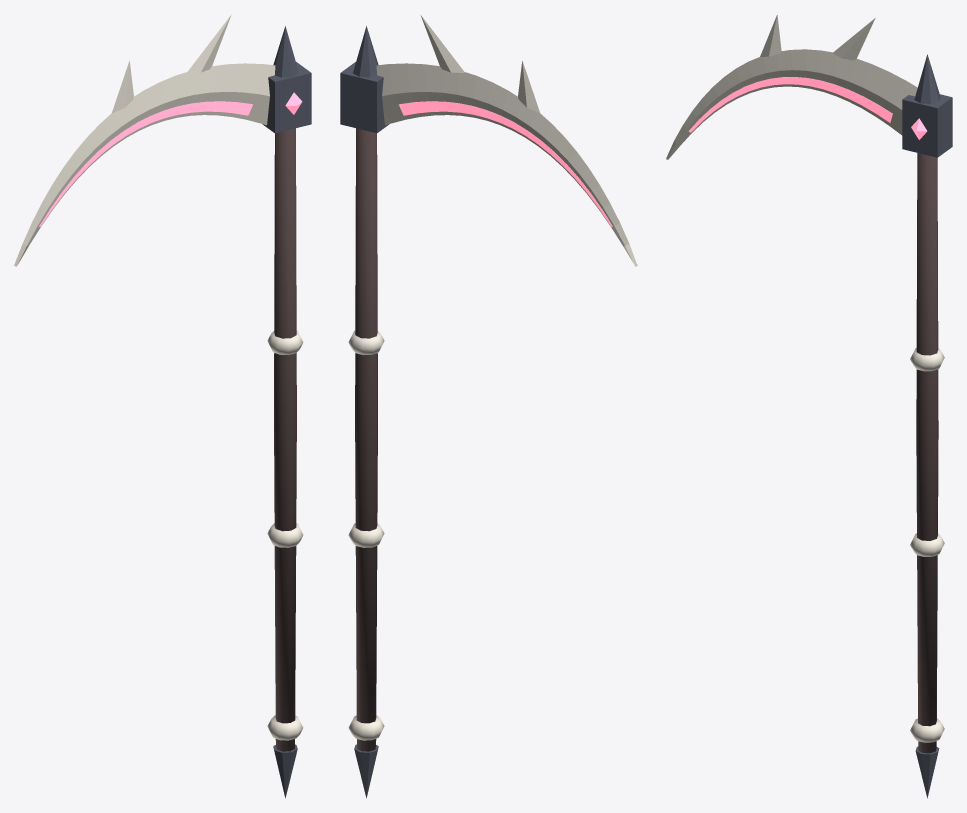
File: Grave_Crescent_Scythe.fbx
3 renders of one model, left to right at view 1: azimuth 30°, elevation 25°; view 2: azimuth 150°, elevation 25°; view 3: azimuth 330°, elevation 25°, orthographic. The views are drawn at different scales.
Parts seen in each view (by area): view 1: Grave_Crescent_Scythe_Staff, Grave_Crescent_Scythe_Blade, Grave_Crescent_Scythe_Socket, Grave_Crescent_Scythe_Rings, Grave_Crescent_Scythe_Glow, Grave_Crescent_Scythe_Thorns, Grave_Crescent_Scythe_Spike; view 2: Grave_Crescent_Scythe_Staff, Grave_Crescent_Scythe_Blade, Grave_Crescent_Scythe_Socket, Grave_Crescent_Scythe_Rings, Grave_Crescent_Scythe_Glow, Grave_Crescent_Scythe_Thorns, Grave_Crescent_Scythe_Spike; view 3: Grave_Crescent_Scythe_Staff, Grave_Crescent_Scythe_Blade, Grave_Crescent_Scythe_Socket, Grave_Crescent_Scythe_Glow, Grave_Crescent_Scythe_Rings, Grave_Crescent_Scythe_Thorns, Grave_Crescent_Scythe_Spike.
Part boxes in pixels (x1,y1,x2,y2): Grave_Crescent_Scythe_Staff: (274,128,296,751); Grave_Crescent_Scythe_Blade: (14,63,275,266); Grave_Crescent_Scythe_Socket: (262,26,311,133); Grave_Crescent_Scythe_Rings: (267,330,303,740); Grave_Crescent_Scythe_Glow: (39,101,253,226); Grave_Crescent_Scythe_Thorns: (111,14,231,113); Grave_Crescent_Scythe_Spike: (273,744,297,798); Grave_Crescent_Scythe_Staff: (355,128,377,751); Grave_Crescent_Scythe_Blade: (376,63,637,266); Grave_Crescent_Scythe_Socket: (340,26,389,133); Grave_Crescent_Scythe_Rings: (348,330,384,740); Grave_Crescent_Scythe_Glow: (398,101,612,226); Grave_Crescent_Scythe_Thorns: (420,14,540,113); Grave_Crescent_Scythe_Spike: (354,744,378,798); Grave_Crescent_Scythe_Staff: (916,153,938,753); Grave_Crescent_Scythe_Blade: (666,49,917,159); Grave_Crescent_Scythe_Socket: (902,54,952,157); Grave_Crescent_Scythe_Glow: (688,77,892,132); Grave_Crescent_Scythe_Rings: (910,348,944,742); Grave_Crescent_Scythe_Thorns: (760,15,875,60); Grave_Crescent_Scythe_Spike: (915,746,939,798).
Size of the model in its own units: 118 by 311 by 14.19.
